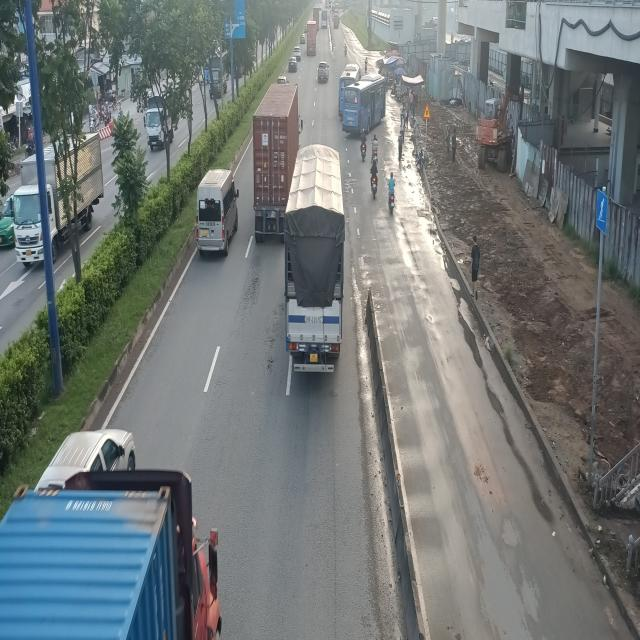coach: (344, 72, 388, 138)
container: (0, 462, 222, 640), (254, 83, 303, 240)
truck: (283, 148, 345, 378)
van: (196, 171, 239, 260)
